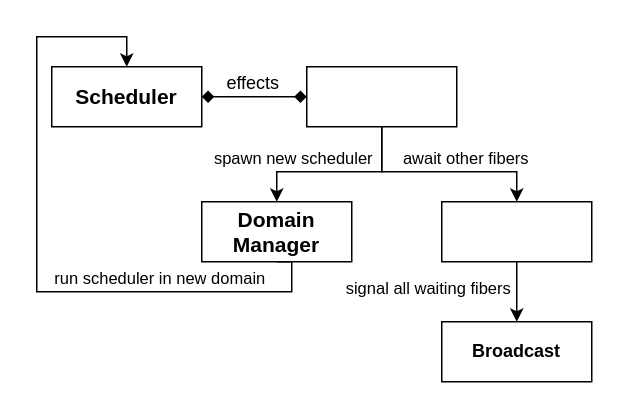
This 618x408 diagram has some shape labels left out. The box of each missing label's shape, as (x1, y1, x2, y2) in pixels:
Fiber: (305, 65, 457, 127)
Promise: (440, 200, 592, 262)
